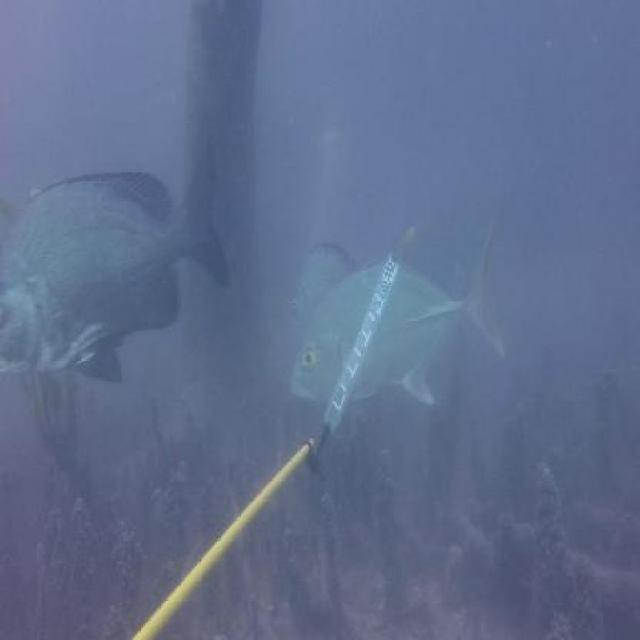Caranx: (284, 215, 519, 418)
acanthopagrus_palmaris: (0, 146, 234, 394), (291, 239, 357, 333)
